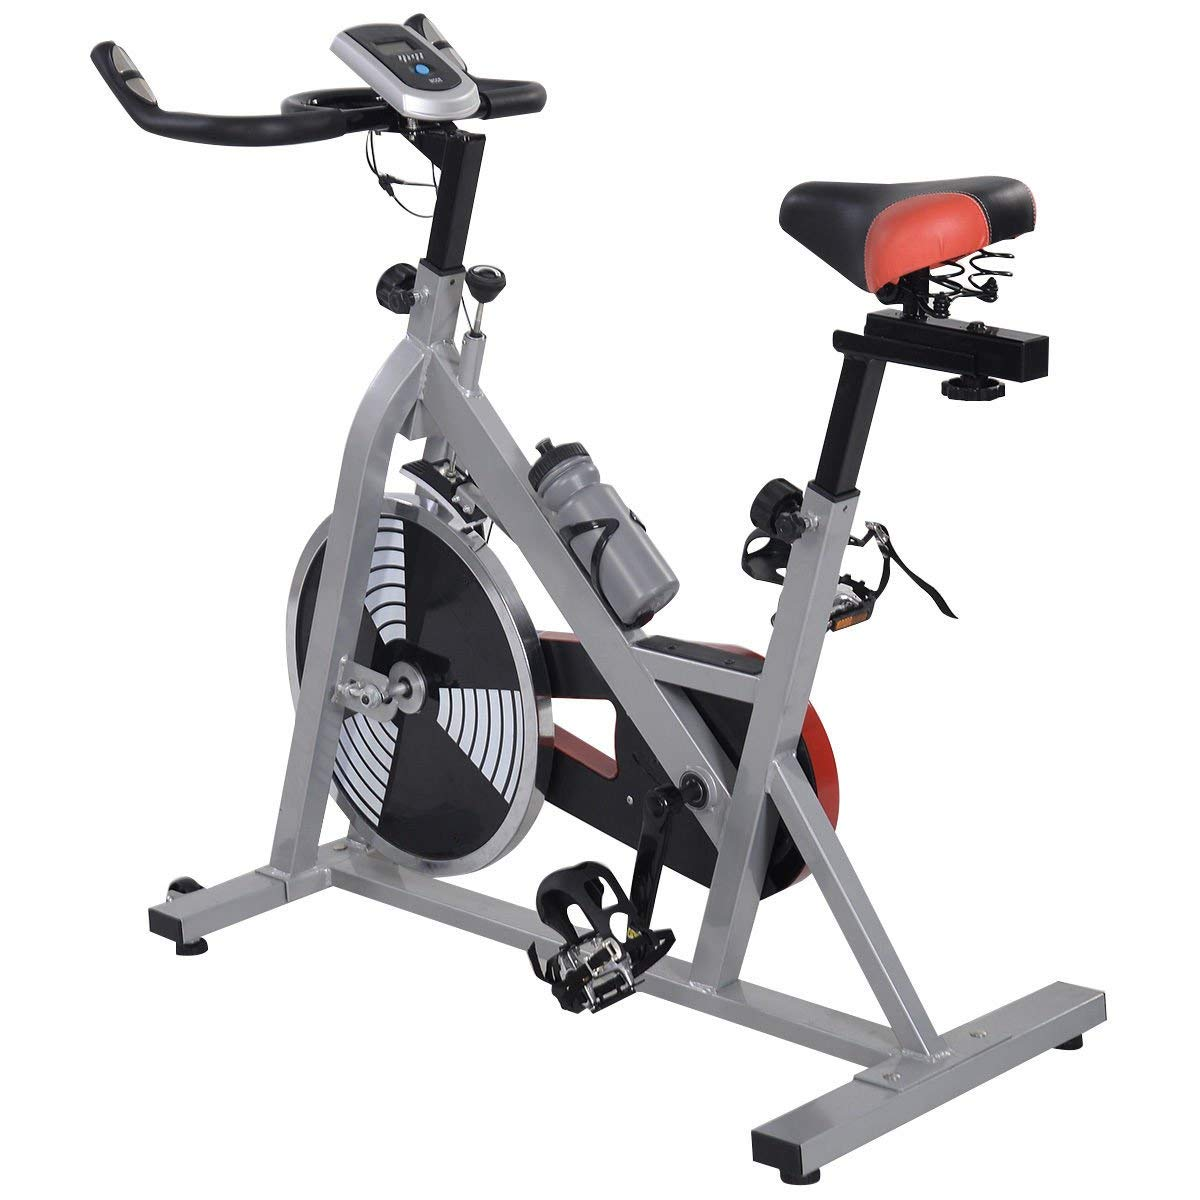gym_bike: (85, 16, 1120, 1178)
